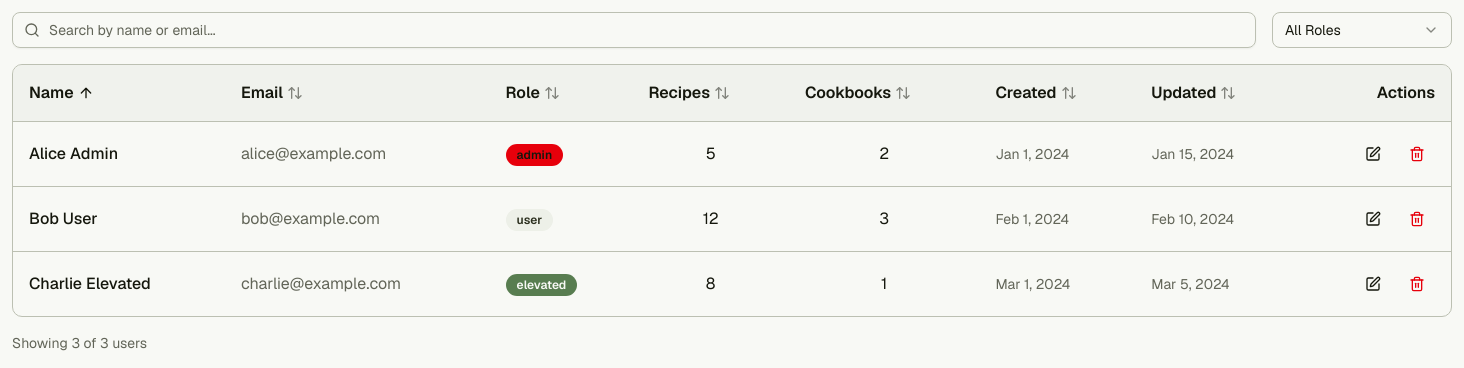
Test: UserListClient › Search functionality › shows empty state message when no matches found
Type "nonexistent" into the field with placeholder "Search by name or email...".
click(634, 30); type("nonexistent")  # box [12,12,1256,48]
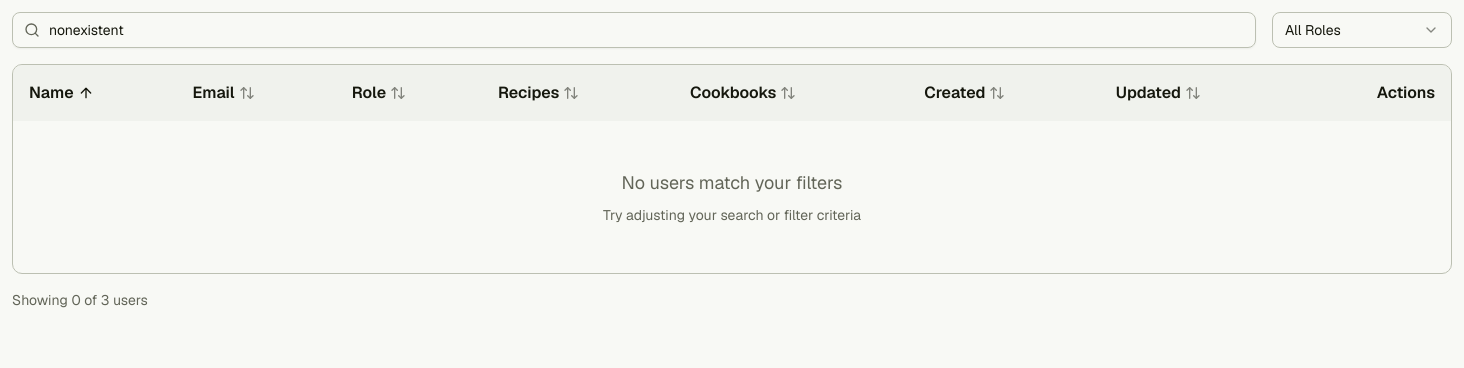
Expected: the text "No users match your filters" is shown, [622,169,842,197]
Expected: the text "Try adjusting your search or filter criteria" is shown, [603,205,861,225]
